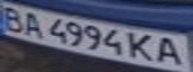4: (42, 16, 69, 44), (103, 26, 127, 56)
9: (81, 23, 106, 53), (63, 19, 84, 48)
A: (151, 34, 190, 68), (18, 10, 48, 38)
B: (0, 3, 30, 33)
K: (127, 32, 160, 63)
